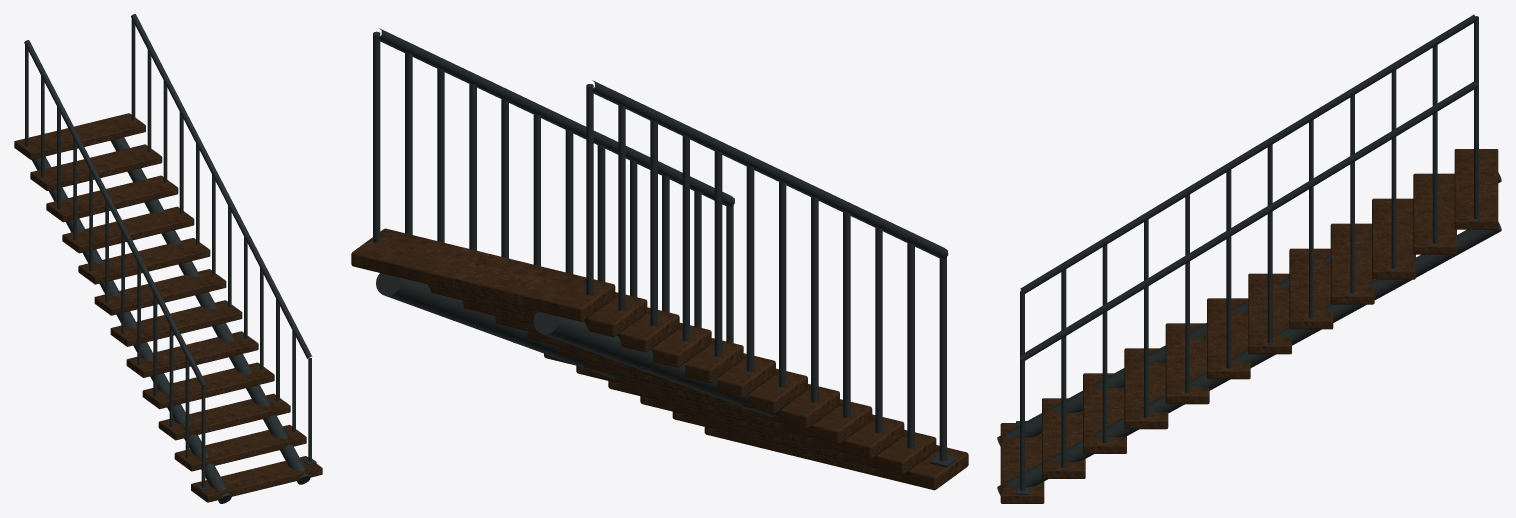
Rendered from studio-walnut-stair.glb.
3 views of the same model, side by side, from view 1: azimuth 30°, elevation 25°; view 2: azimuth 150°, elevation 25°; view 3: azimuth 270°, elevation 25° (orthographic). The views are drawn at different scales.
Parts seen in each view (by area): view 1: wood_surfaces, dark_surfaces; view 2: dark_surfaces, wood_surfaces; view 3: wood_surfaces, dark_surfaces.
Part boxes in pixels (x1,y1,x2,y2): wood_surfaces: [14, 113, 322, 502]; dark_surfaces: [24, 14, 316, 503]; dark_surfaces: [373, 28, 956, 467]; wood_surfaces: [351, 228, 968, 490]; wood_surfaces: [1000, 149, 1498, 503]; dark_surfaces: [997, 14, 1501, 495].
Size of the model in its own units: 0.9999 by 2.75 by 2.93.
2 materials, 1 textured.
